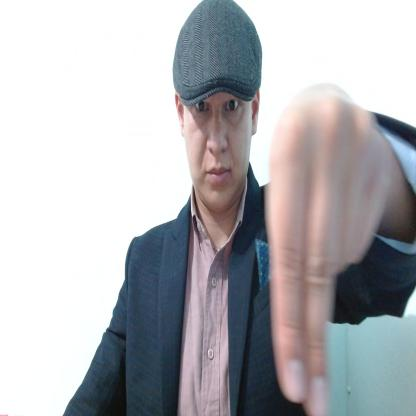N: (268, 84, 387, 415)
